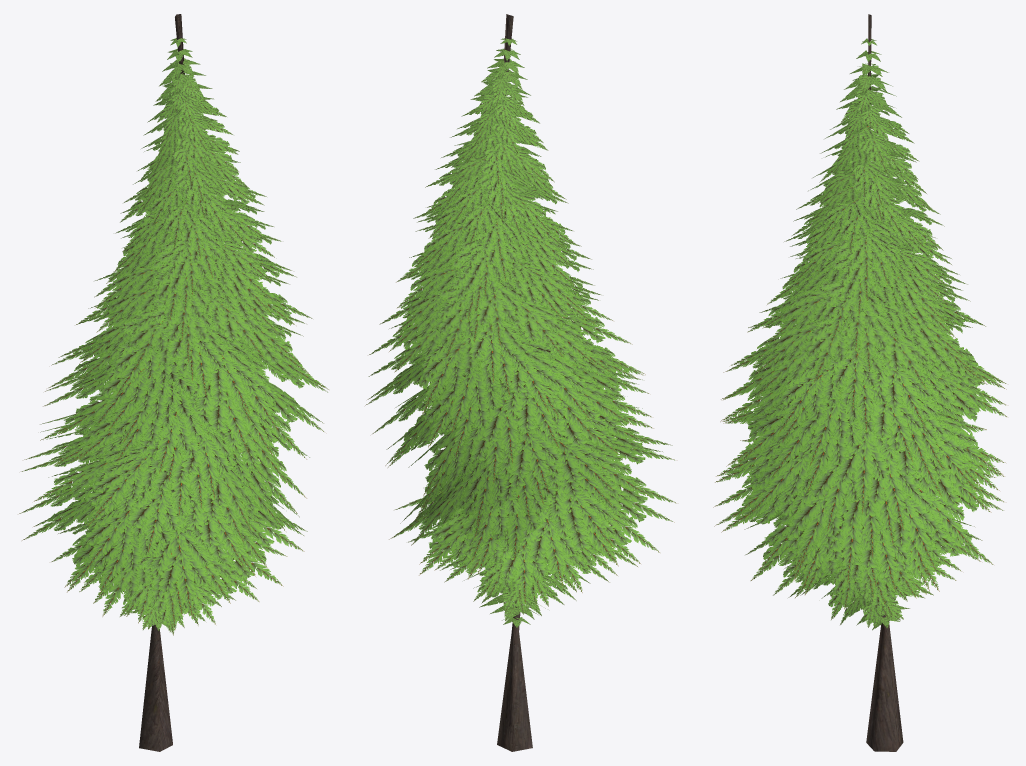
File: pine_tree_low_poly2.glb
The picture shows the model from 3 angles, left to right: view 1: azimuth 30°, elevation 25°; view 2: azimuth 150°, elevation 25°; view 3: azimuth 270°, elevation 25°; orthographic projection. The views are drawn at different scales.
Visible parts, largest first — view 1: leaf, pine-stem-col; view 2: leaf, pine-stem-col; view 3: leaf, pine-stem-col.
Boxes of the visible parts, <box> form: leaf: <box>19,38,328,635</box>; pine-stem-col: <box>139,14,184,751</box>; leaf: <box>365,38,676,627</box>; pine-stem-col: <box>497,14,532,751</box>; leaf: <box>713,38,1006,630</box>; pine-stem-col: <box>866,14,903,751</box>.
Bounding box in the file's own units: 12.9 × 32.82 × 12.14.
2 materials, 2 textured.
